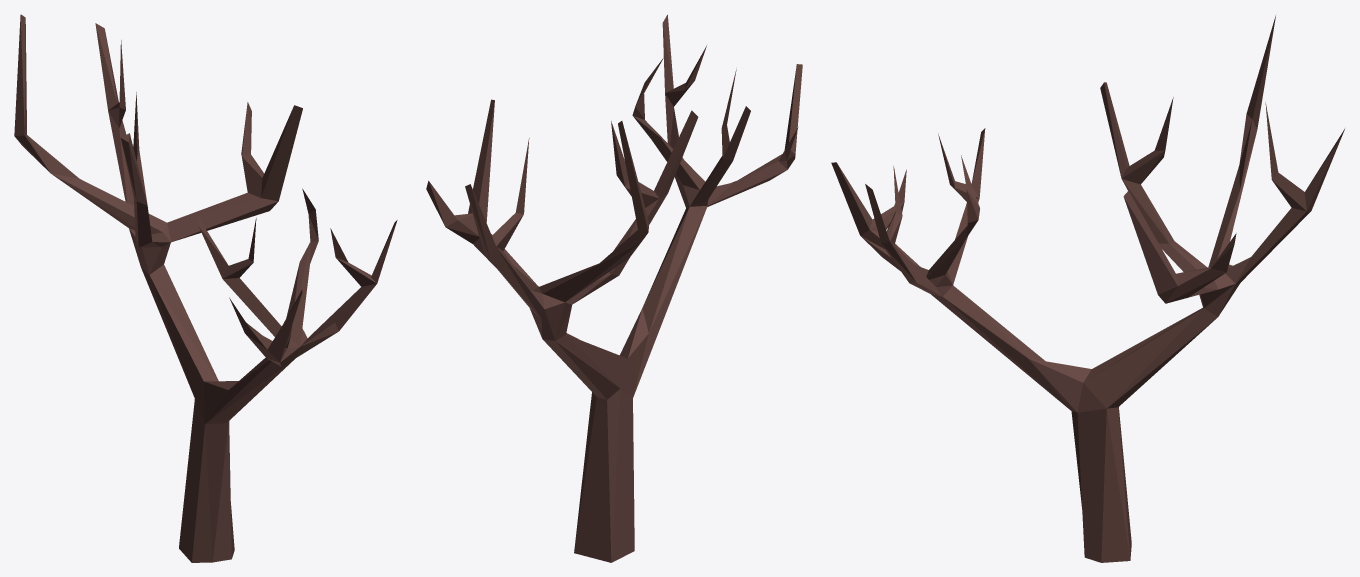
File: tree-common-dead-1.gltf
3 renders of one model, left to right at view 1: azimuth 30°, elevation 25°; view 2: azimuth 150°, elevation 25°; view 3: azimuth 270°, elevation 25°, orthographic. The views are drawn at different scales.
Visible parts, largest first — view 1: CommonTree_Dead_1_Cube.001; view 2: CommonTree_Dead_1_Cube.001; view 3: CommonTree_Dead_1_Cube.001.
Part boxes in pixels (box(x1,y1,x2,y2)): CommonTree_Dead_1_Cube.001: box(14, 14, 397, 562); CommonTree_Dead_1_Cube.001: box(426, 14, 802, 562); CommonTree_Dead_1_Cube.001: box(831, 15, 1344, 562).
Bounding box in the file's own units: 0.0105 × 0.0223 × 0.0212.
